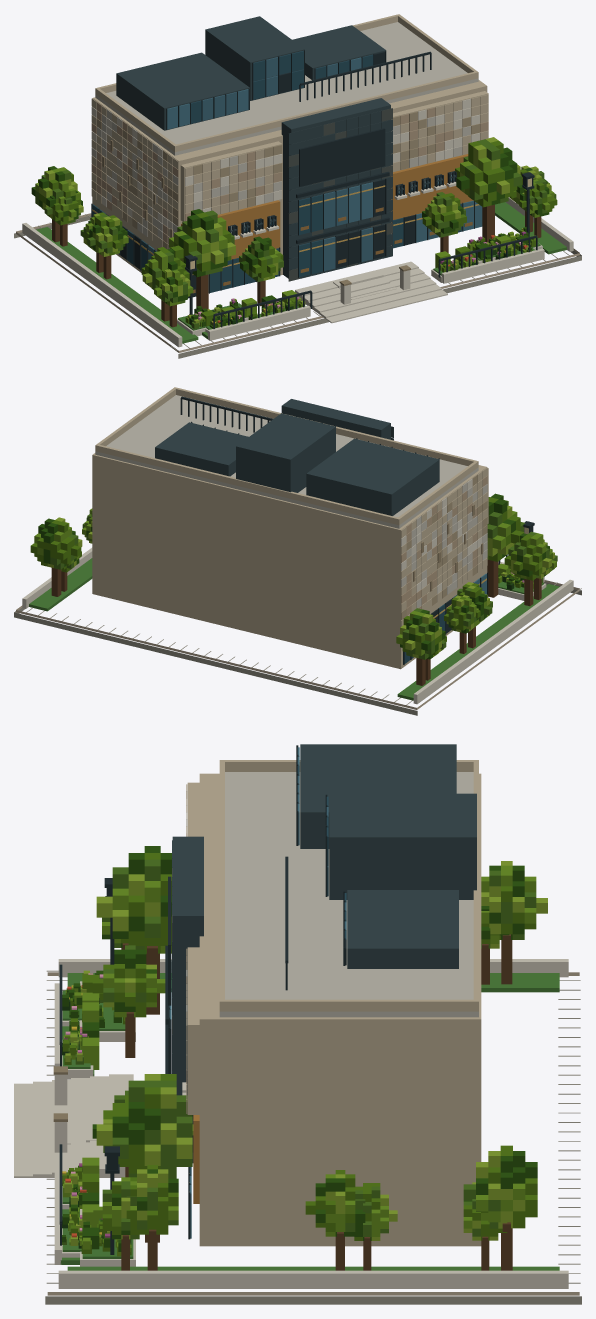
File: SM_StreetFrontage_017.fbx
3 views of the same model, one above another, from view 1: azimuth 30°, elevation 25°; view 2: azimuth 150°, elevation 25°; view 3: azimuth 270°, elevation 25° (orthographic). The views are drawn at different scales.
Visible parts, largest first — view 1: SM_StreetFrontage_017; view 2: SM_StreetFrontage_017; view 3: SM_StreetFrontage_017.
Part boxes in pixels (left/top/right/bottom): SM_StreetFrontage_017: left=14, top=14, right=581, bottom=358; SM_StreetFrontage_017: left=14, top=387, right=581, bottom=715; SM_StreetFrontage_017: left=14, top=744, right=581, bottom=1304.
Bounding box in the file's own units: 65 × 48.41 × 29.73.
